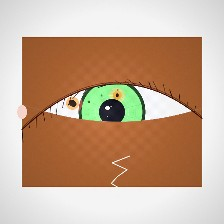foreign_body_visible: (51, 86, 94, 120)
